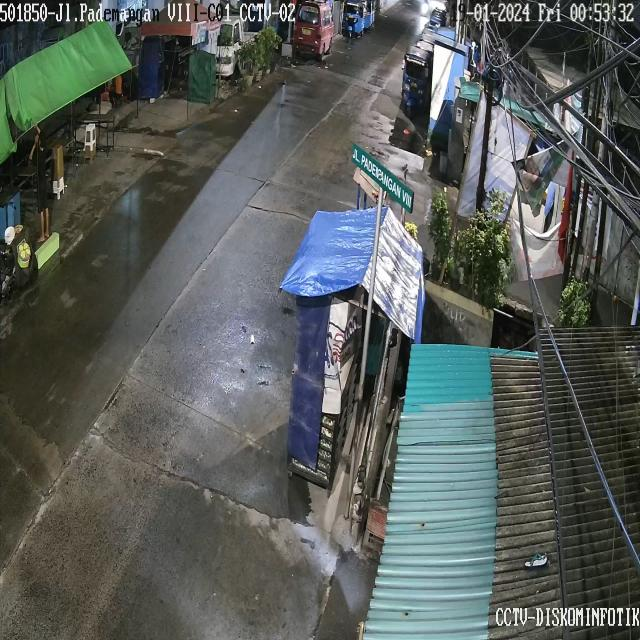Terpal: (0, 55, 94, 94), (316, 215, 366, 286)
